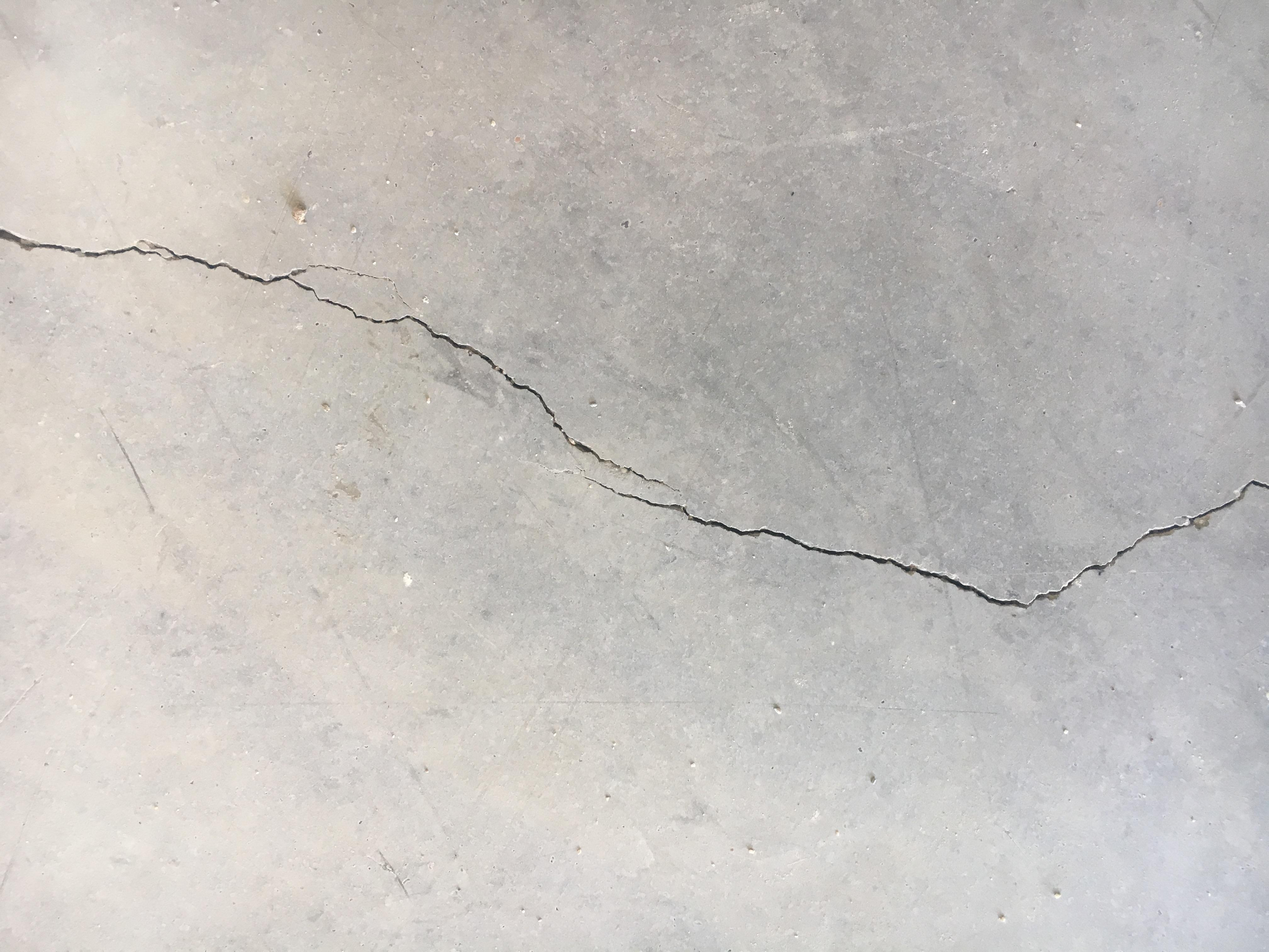Diagonal Crack: (3, 223, 1266, 611)
